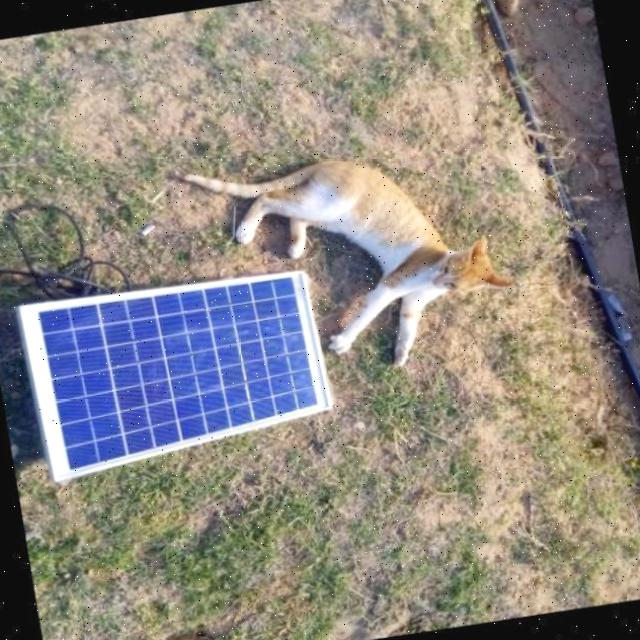Normal Solar Panel: (19, 262, 338, 484)
